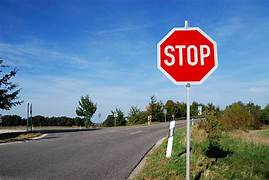stop: (157, 26, 216, 86)
